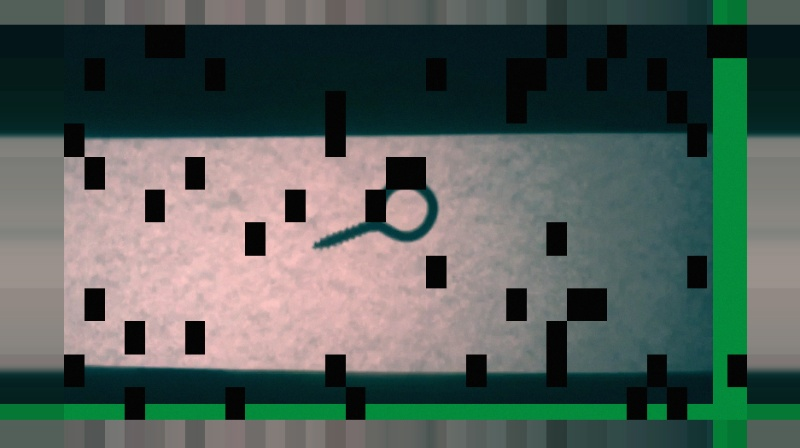O001: (308, 173, 441, 254)
